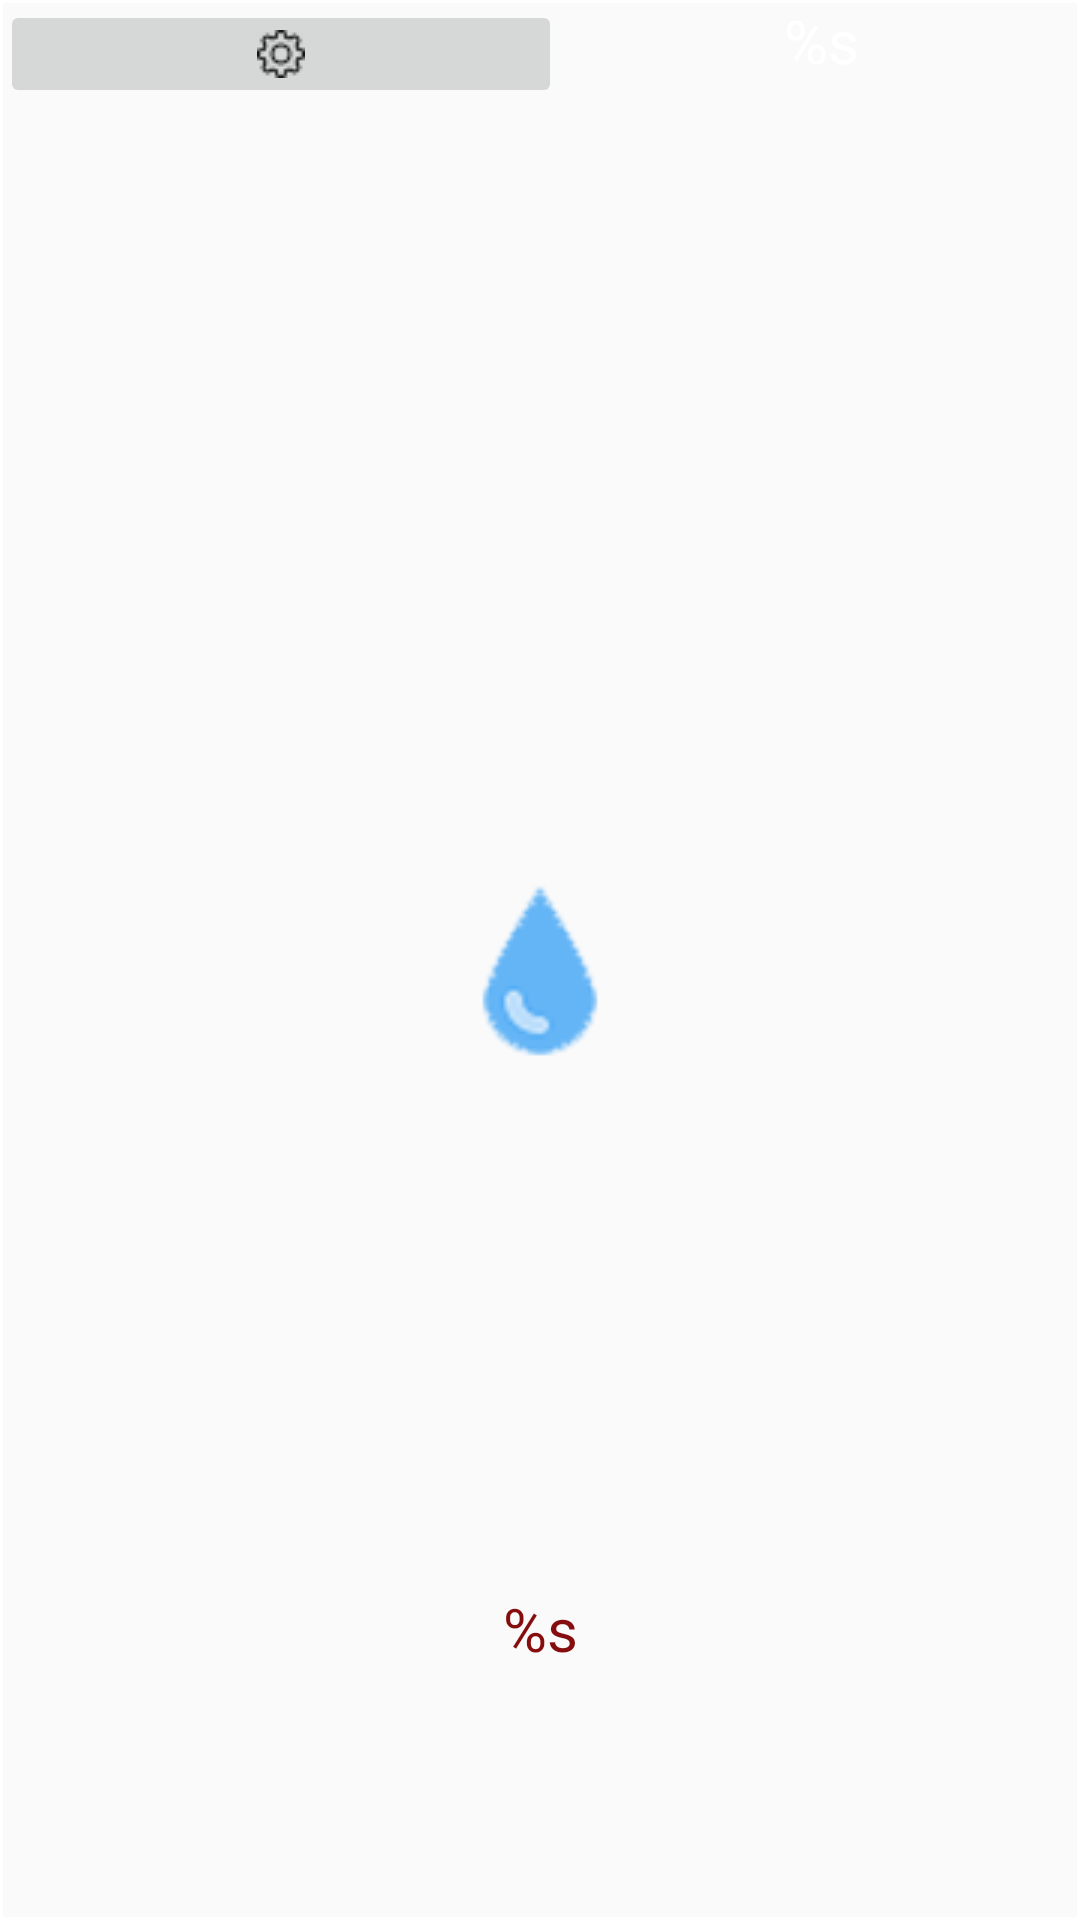

Where icons sit on this 1080*1920 app screen, as [left=x1, top=y1, right=x2, bottom=y2]:
water: [left=482, top=887, right=598, bottom=1056]
